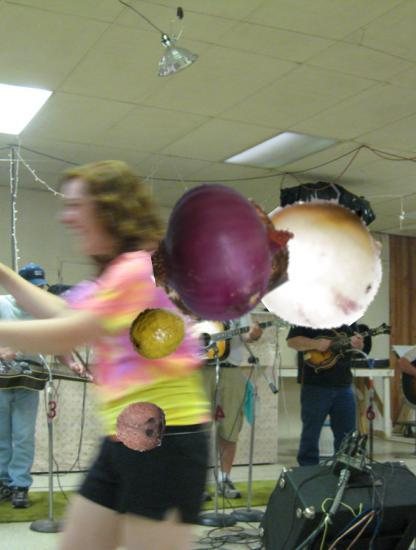Cocos: (115, 399, 170, 454)
Guava: (128, 301, 189, 362)
Onion: (151, 179, 297, 325)
Pepino: (250, 194, 388, 332)
Pineapple: (152, 194, 289, 331)
